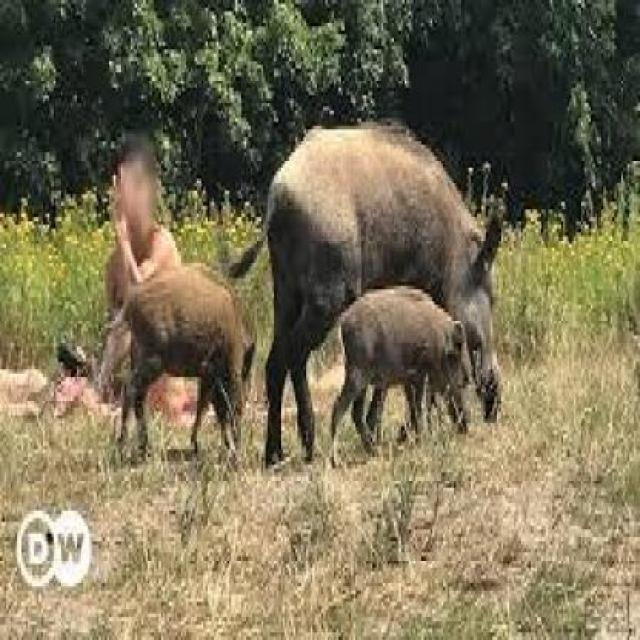wildboar: (231, 112, 512, 478), (94, 261, 257, 470), (324, 276, 479, 475)
